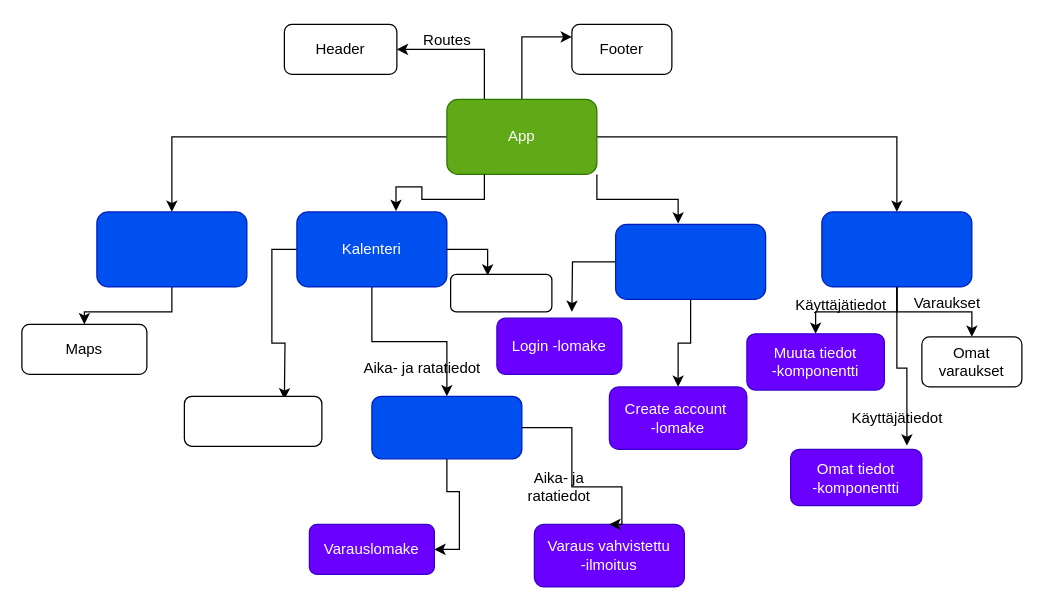
The diagram is 1044 pixels wide and 609 high, and some of its shapes have lost their labels. Here are the shapes that lost their labels. From the top down, the centre of each, then its label:
(171,249): Frontpage
(690,261): Login sivu
(896,249): Käyttäjäsivu
(500,292): Date picker
(252,420): Ratakomponentti
(446,427): Vahvista varaus -sivu
